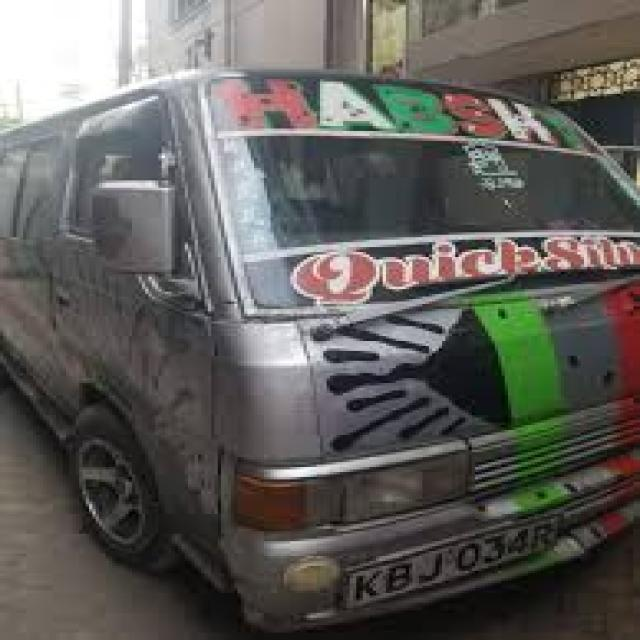matatu: (3, 27, 640, 640)
